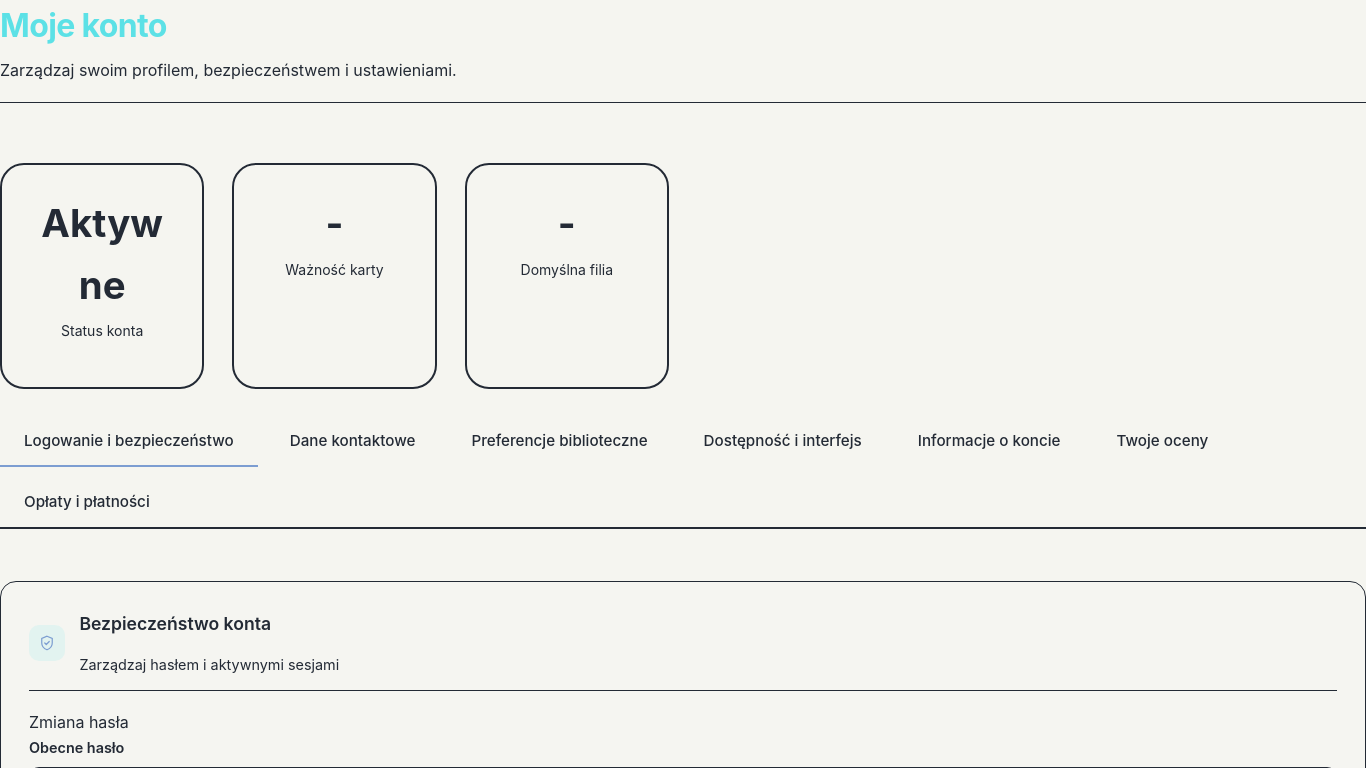
Scenario: Profile page › shows error when fee payment fails
Expected: the heading "Moje konto" is shown, left=0, top=6, right=167, bottom=45
Click the button "Opłaty i płatności".
click(87, 504)  # box left=0, top=478, right=174, bottom=529
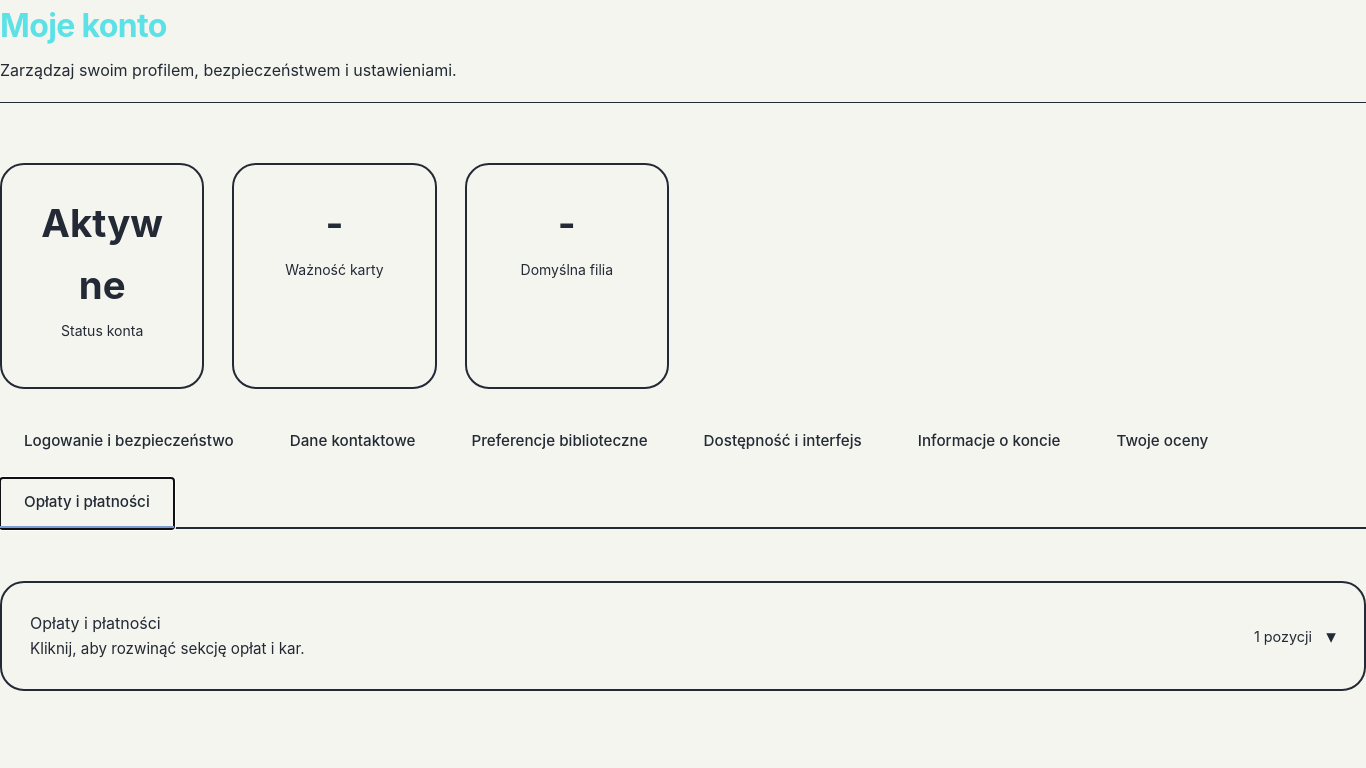
Click the button with aria-label "Rozwiń opłaty i płatności".
click(95, 623)  # box left=30, top=611, right=1336, bottom=661
(page scrolled)
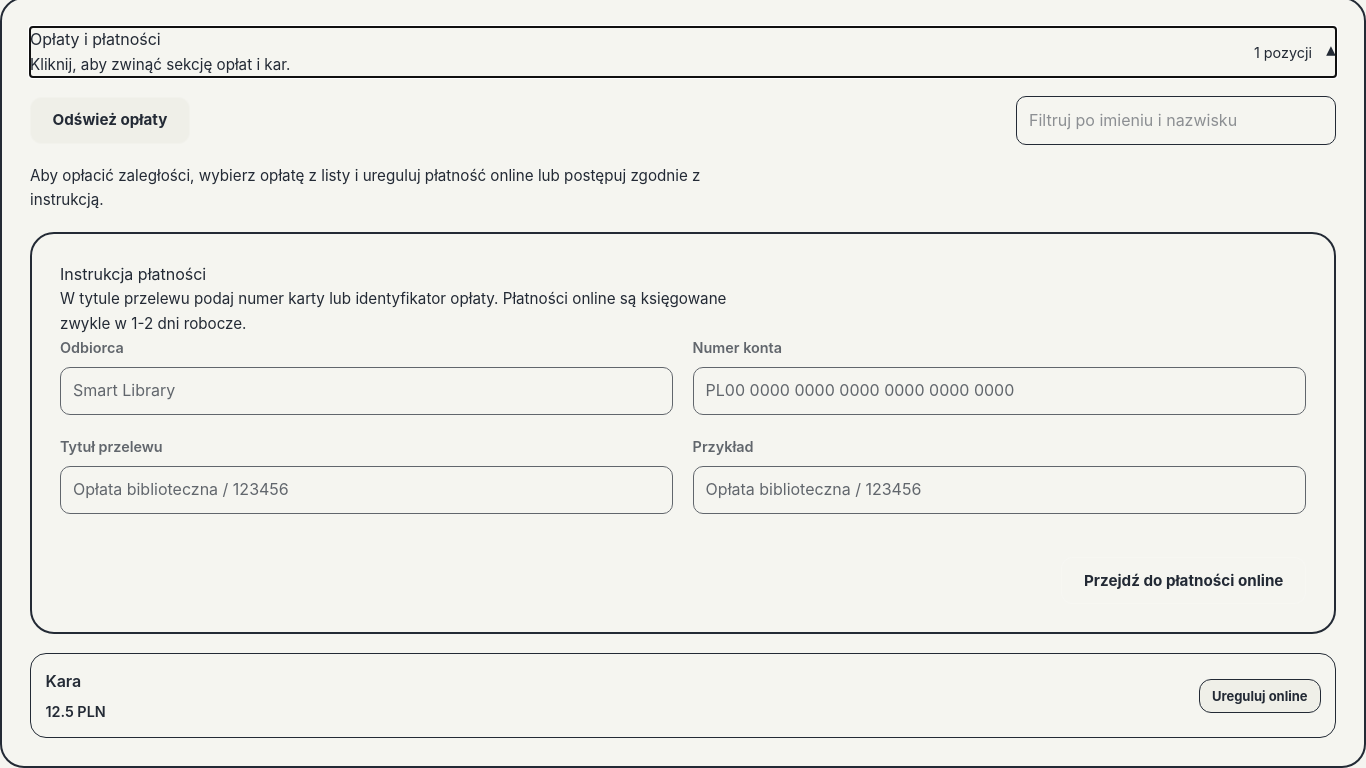
Expected: the text "Kara" is shown, left=45, top=671, right=81, bottom=691
Click the button "Ureguluj online".
click(1260, 696)  # box left=1199, top=678, right=1321, bottom=713
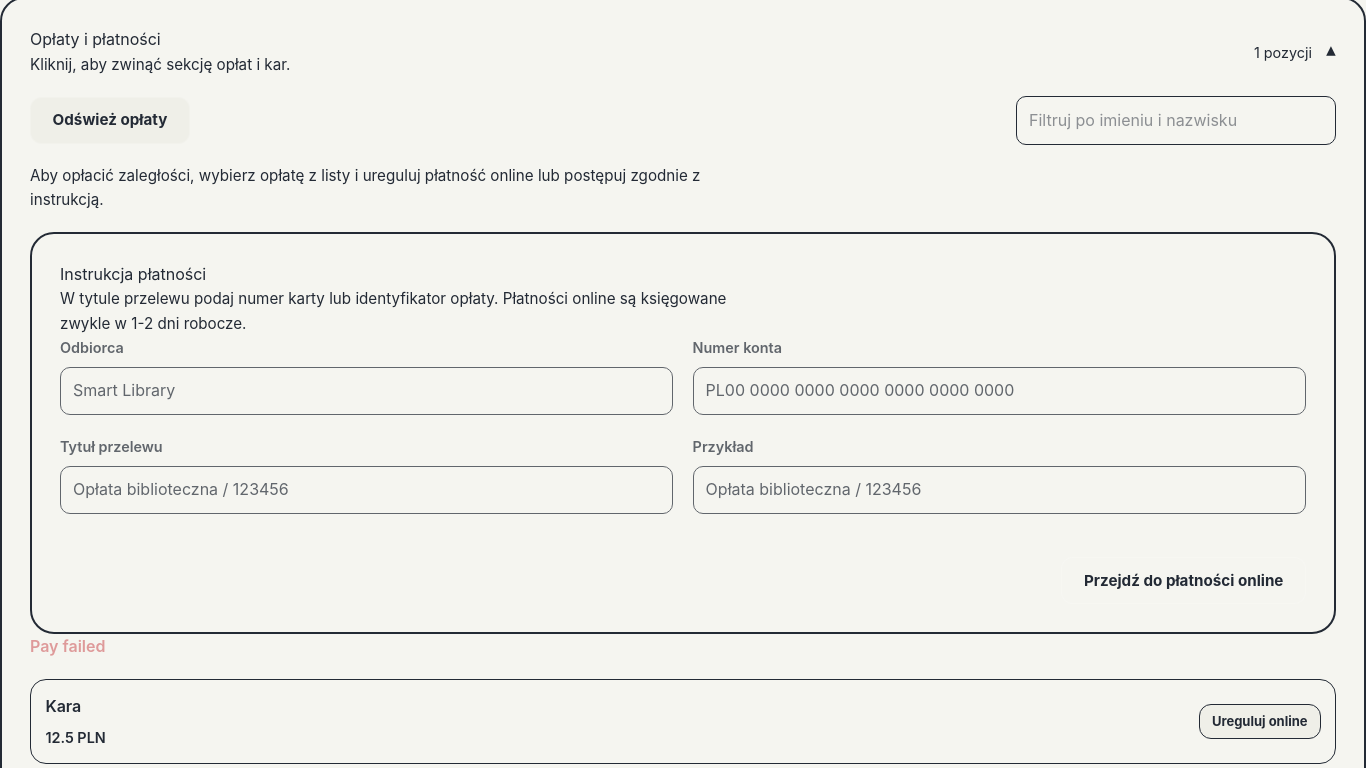
Expected: the text "Pay failed" is shown, left=30, top=636, right=106, bottom=656
